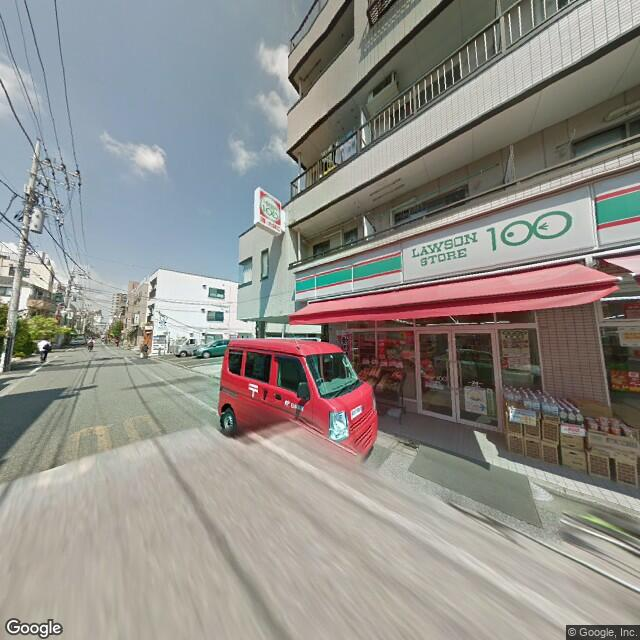lawson: (294, 167, 637, 303), (258, 183, 282, 230)
